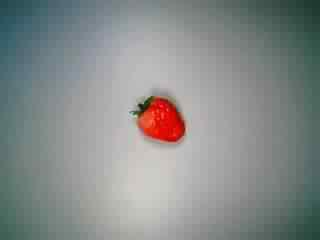strawberry: (121, 87, 187, 149)
